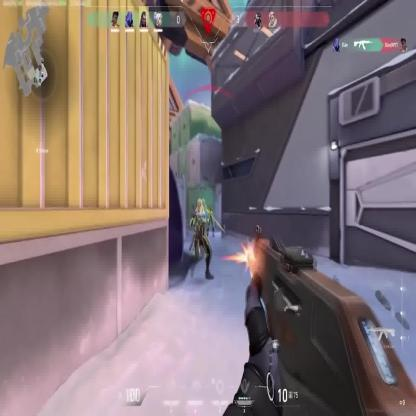enemy: (190, 198, 215, 279), (206, 206, 215, 238)
enemy_head: (197, 199, 202, 212), (209, 206, 212, 210)
